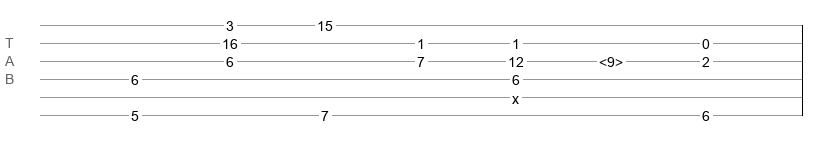0: (702, 36, 710, 46)
1: (417, 36, 425, 46), (512, 36, 520, 46)
12: (508, 54, 524, 64)
15: (317, 18, 333, 28)
16: (222, 36, 238, 46)
2: (702, 54, 710, 64)
3: (226, 18, 234, 28)
5: (131, 108, 139, 118)
6: (131, 72, 139, 82), (226, 54, 234, 64), (512, 72, 520, 82), (702, 108, 710, 118)
7: (321, 108, 329, 118), (417, 54, 425, 64)
harmonic: (599, 54, 623, 64)
x: (512, 91, 519, 99)
